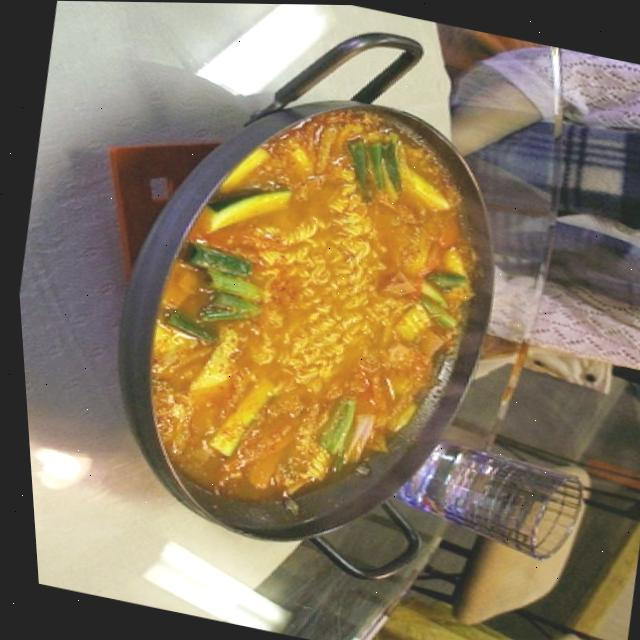鸡肉料理 含炸鸡: (65, 1, 570, 633)
